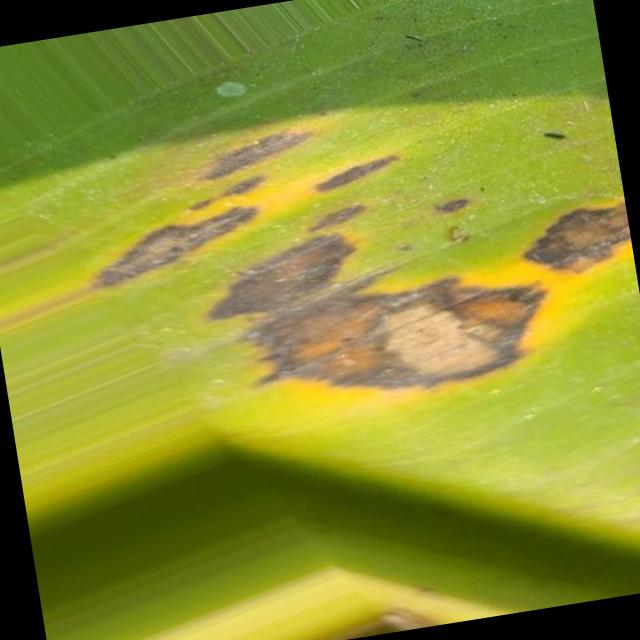Banana_Black_Sigatoka: (97, 51, 640, 478)
